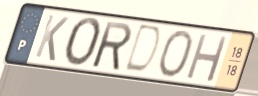D: (120, 22, 164, 77)
H: (183, 31, 231, 85)
K: (32, 13, 71, 64)
O: (62, 16, 105, 70), (156, 29, 194, 80)
R: (91, 19, 134, 73)
